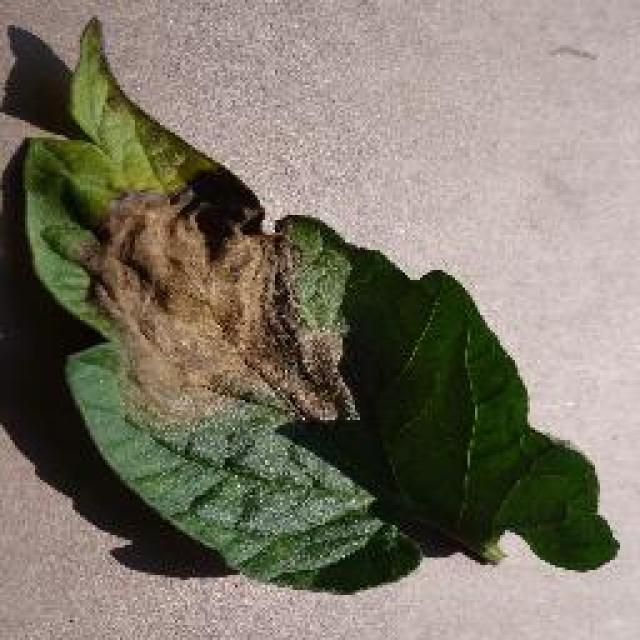Tomato___Late_blight: (25, 18, 622, 598)
